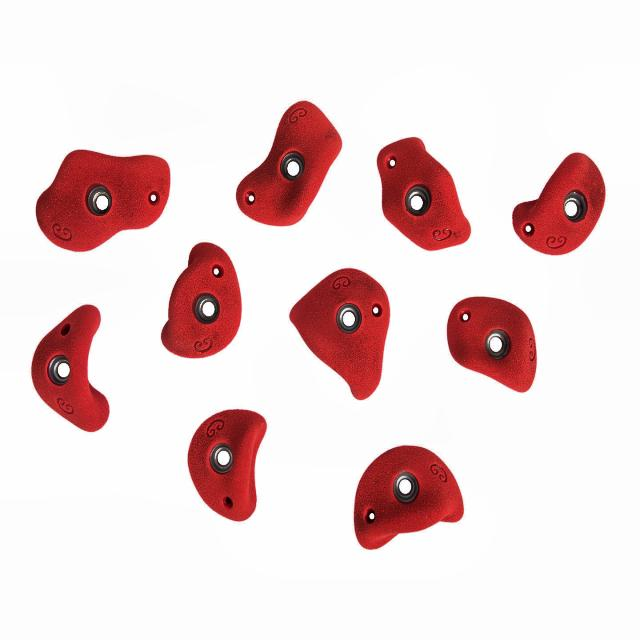Hold: (35, 148, 169, 253), (235, 102, 343, 224), (290, 268, 388, 400), (354, 444, 466, 548), (376, 136, 473, 249), (514, 150, 606, 259), (33, 304, 109, 432), (158, 242, 241, 359), (445, 296, 538, 395), (188, 408, 268, 523)
